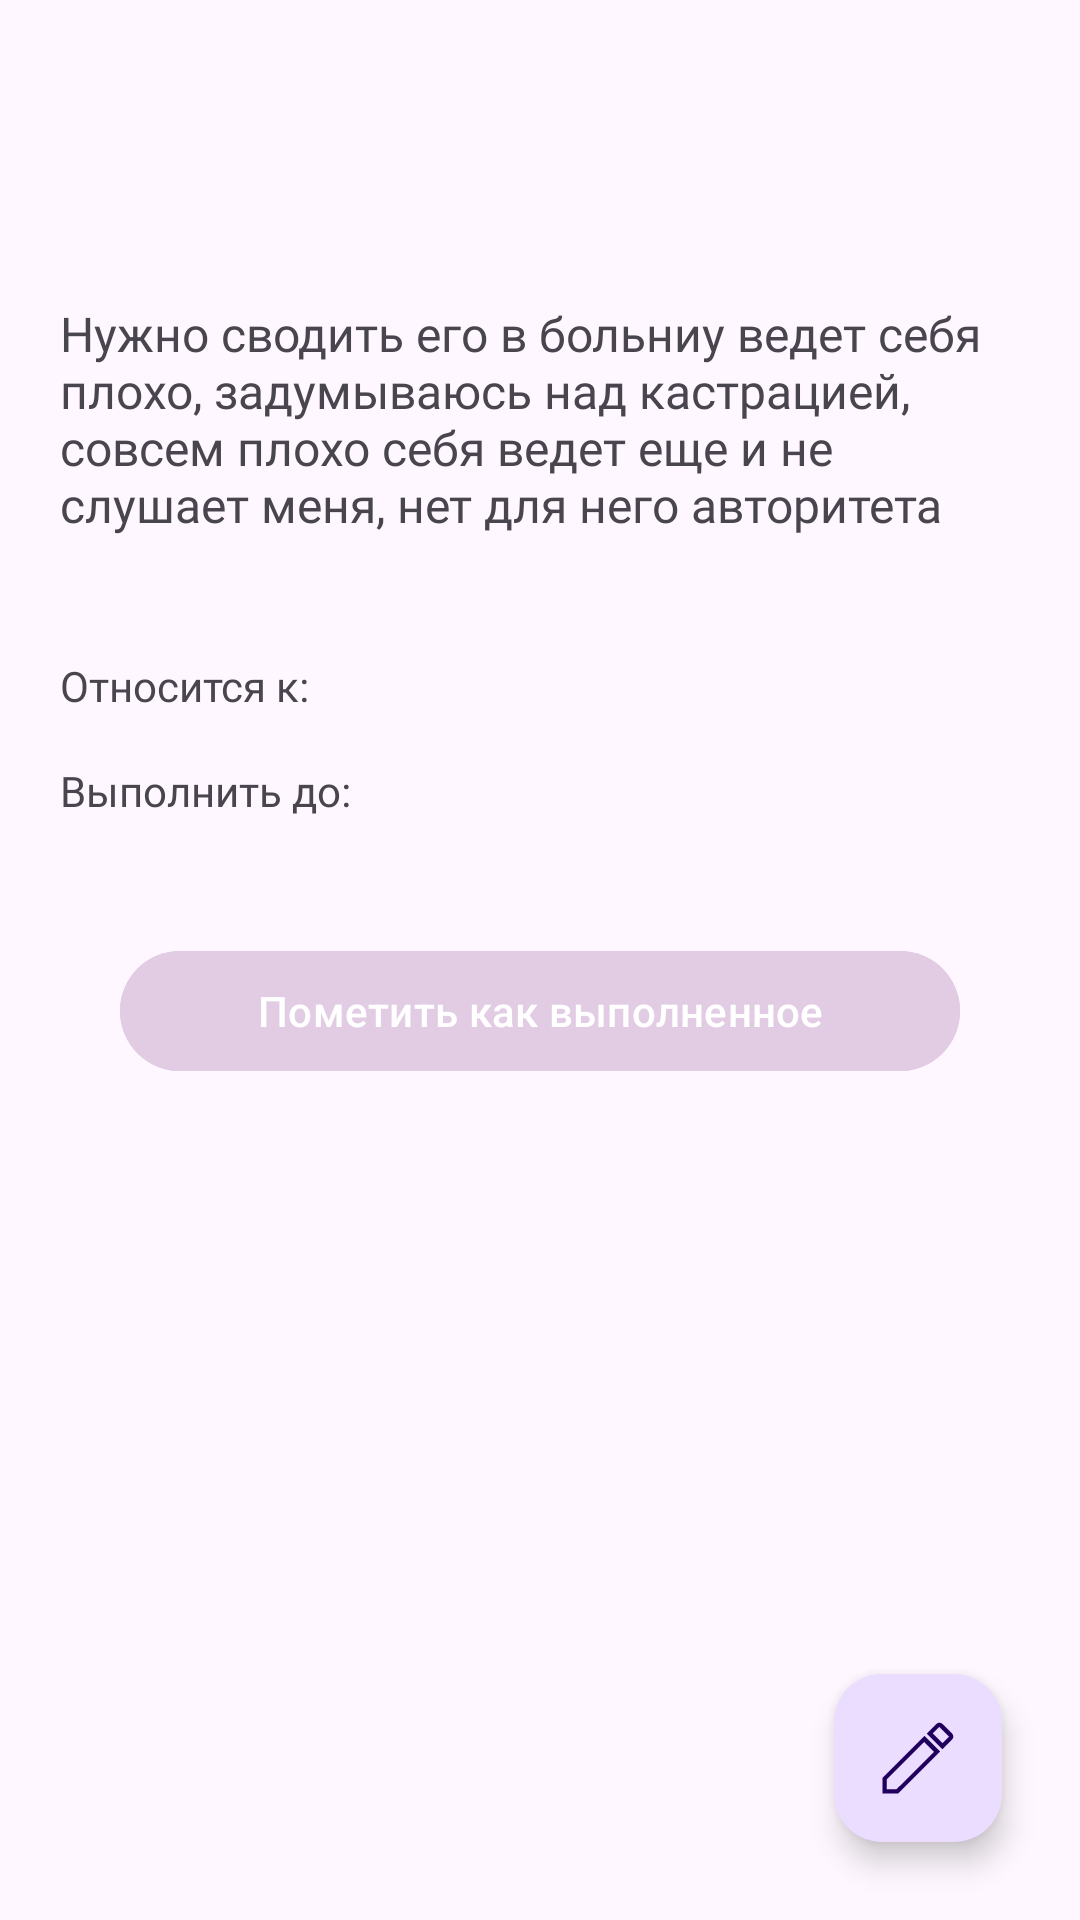

Where icons sit on this 1080*1920 app screen, as (x1, y1, x2, y2):
refactor: (834, 1674, 1002, 1842)
